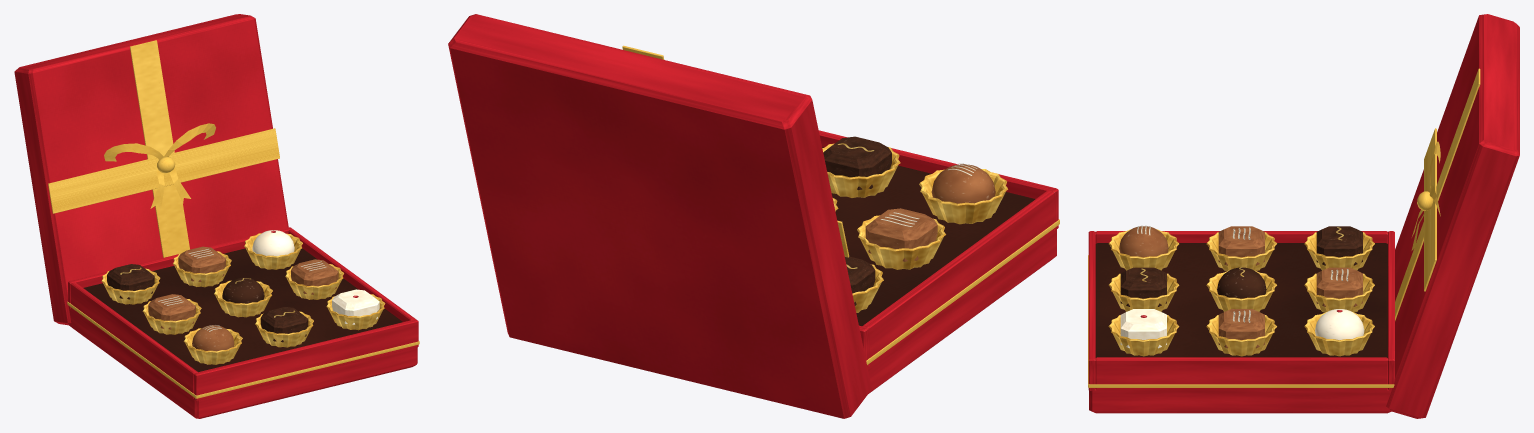
File: box-of-chocolates.glb
3 views of the same model, side by side, from view 1: azimuth 30°, elevation 25°; view 2: azimuth 150°, elevation 25°; view 3: azimuth 270°, elevation 25° (orthographic). The views are drawn at different scales.
Parts seen in each view (by area): view 1: BoxofChocolatesSurface, BoxofChocolatesGraphics; view 2: BoxofChocolatesSurface; view 3: BoxofChocolatesSurface, BoxofChocolatesGraphics.
Part boxes in pixels (x1,y1,x2,y2): BoxofChocolatesSurface: (14,14,419,418); BoxofChocolatesGraphics: (120,230,358,331); BoxofChocolatesSurface: (448,14,1059,418); BoxofChocolatesSurface: (1088,14,1519,418); BoxofChocolatesGraphics: (1137,225,1348,322).
Bounding box in the file's own units: 0.204 × 0.2018 × 0.2822.
2 materials, 2 textured.
